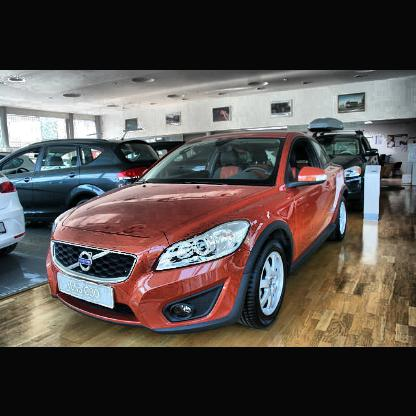Volvo C30 Hatchback 2012: (50, 131, 351, 330)
